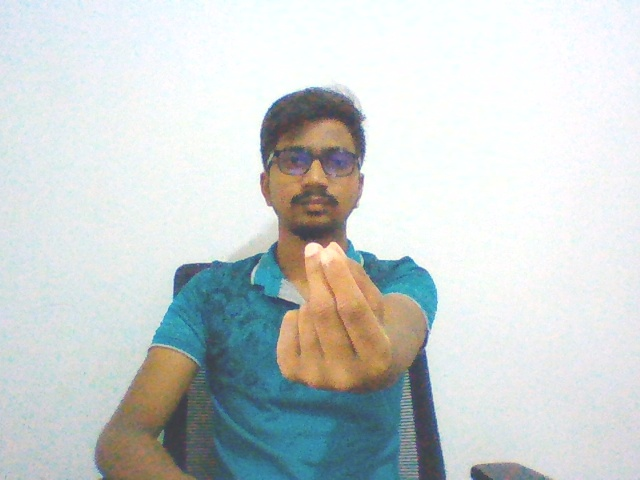dog: (268, 237, 404, 406)
